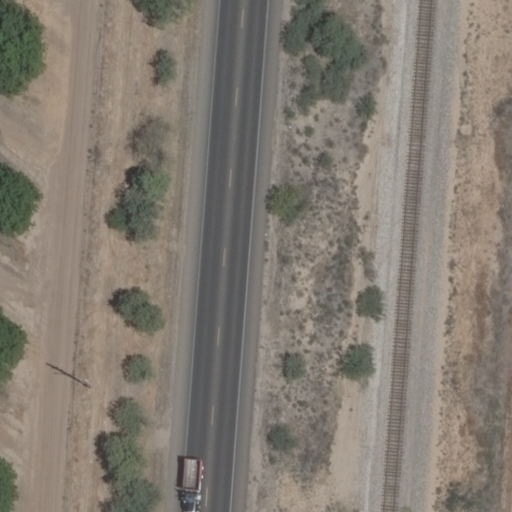DT: (77, 378, 96, 392)
